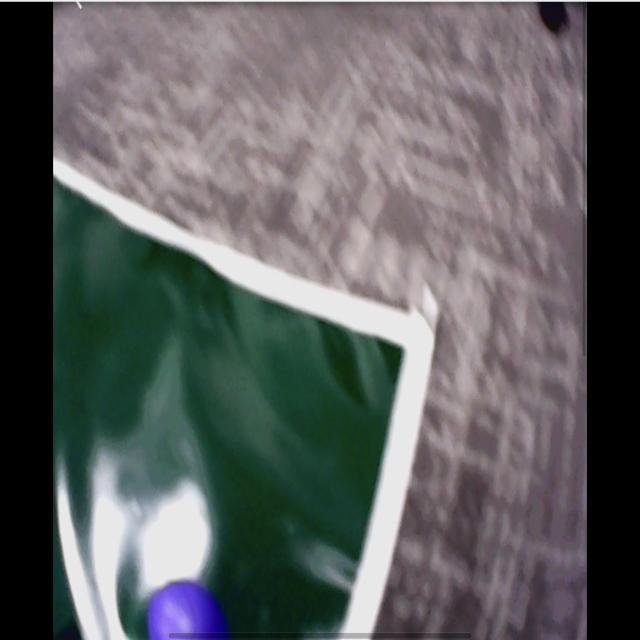ball: (148, 580, 227, 640)
